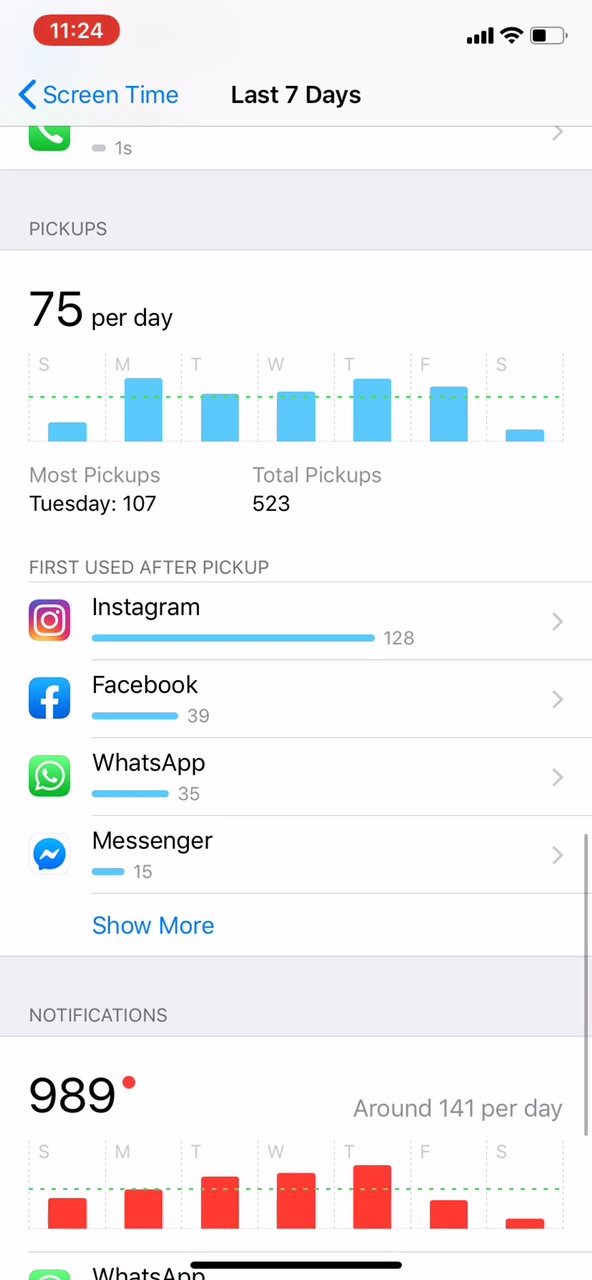not_over: (23, 982, 197, 1122)
pick_app: (25, 585, 436, 657), (18, 819, 236, 891), (20, 742, 223, 810), (26, 671, 225, 732)
pick_over: (23, 457, 403, 532)
week: (215, 71, 376, 114)
